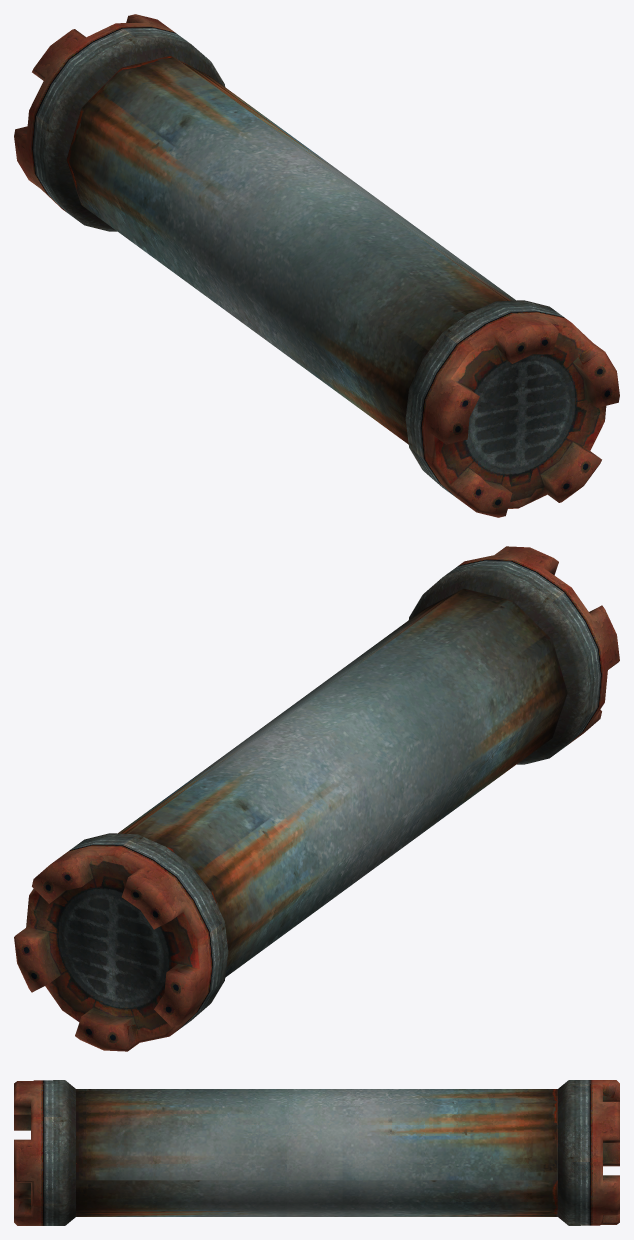
The model's file is tau_tech_long.DAE.
3 renders of one model, top to bottom at view 1: azimuth 30°, elevation 25°; view 2: azimuth 150°, elevation 25°; view 3: azimuth 270°, elevation 25°, orthographic. The views are drawn at different scales.
Visible parts, largest first — view 1: polySurface779; view 2: polySurface779; view 3: polySurface779.
Part boxes in pixels (x1,y1,x2,y2): polySurface779: (14, 14, 619, 517); polySurface779: (14, 546, 619, 1051); polySurface779: (14, 1080, 619, 1225).
Bounding box in the file's own units: 0.4984 × 0.5035 × 2.06.
